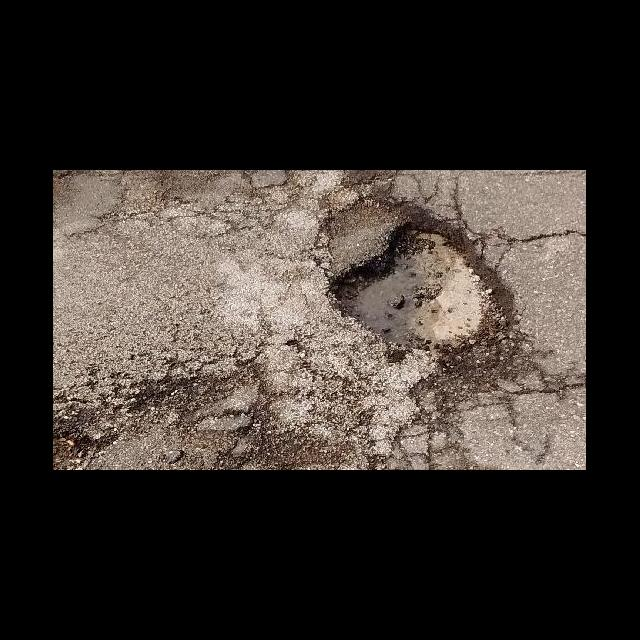lubang_kecil: (312, 199, 519, 382)
